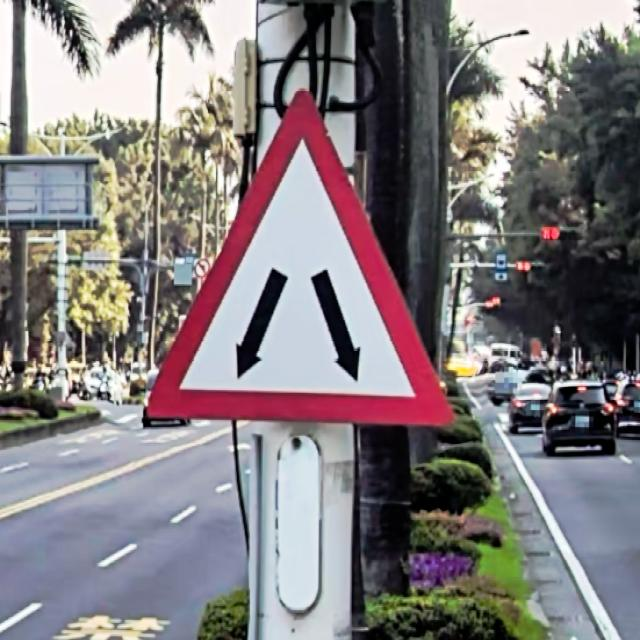diverge: (144, 90, 455, 427)
